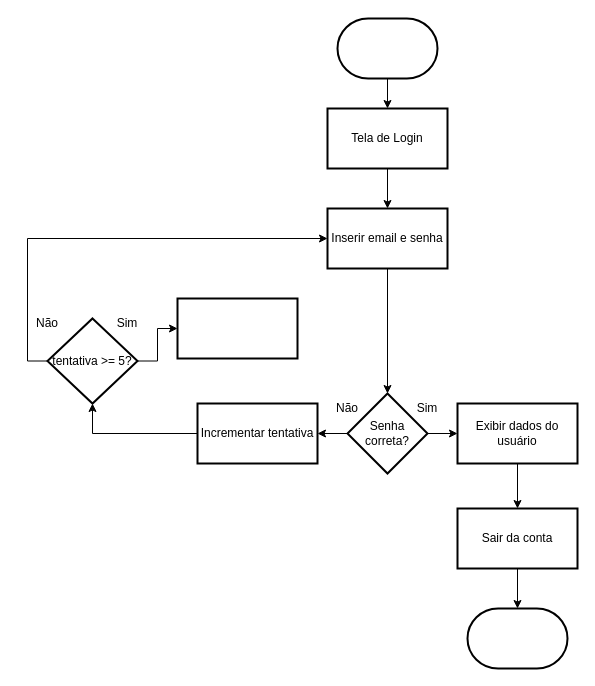
The diagram is 595 pixels wide and 686 high, and some of its shapes have lost their labels. Here are the shapes that lost their labels. From the top down, the centre of each, then its label:
point 387,48: início
point 237,328: bloquear 5 minutos
point 517,638: Fim
